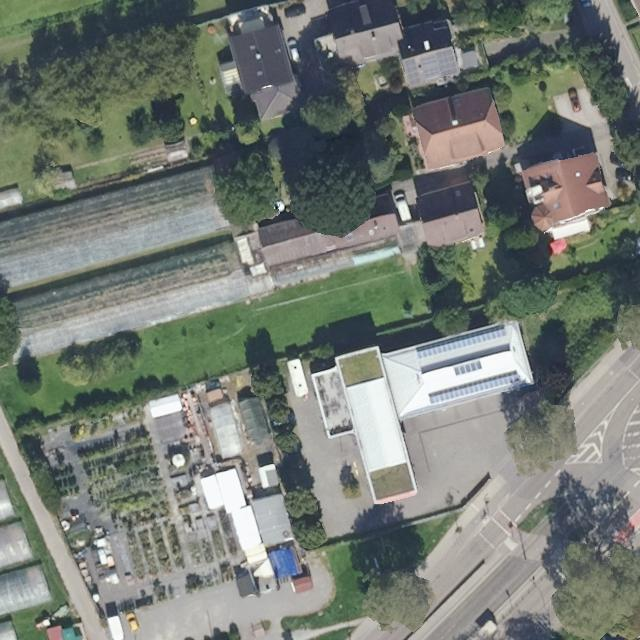PV: (428, 373, 522, 406), (415, 329, 508, 361), (419, 48, 459, 82), (453, 359, 484, 377), (403, 58, 422, 87)
